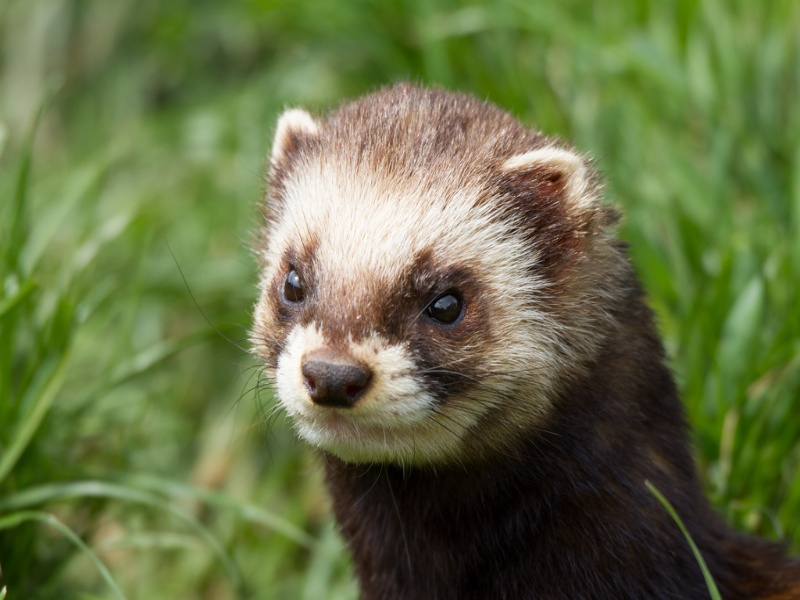minkish: (244, 79, 770, 588)
